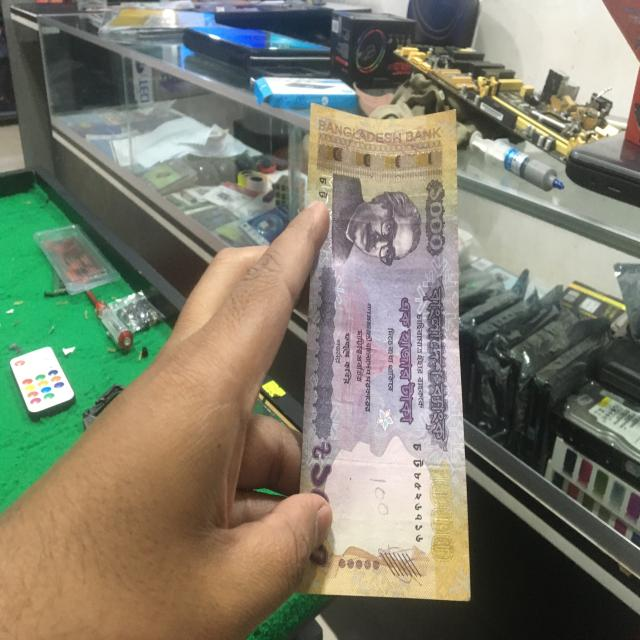Taka: (305, 102, 474, 604)
